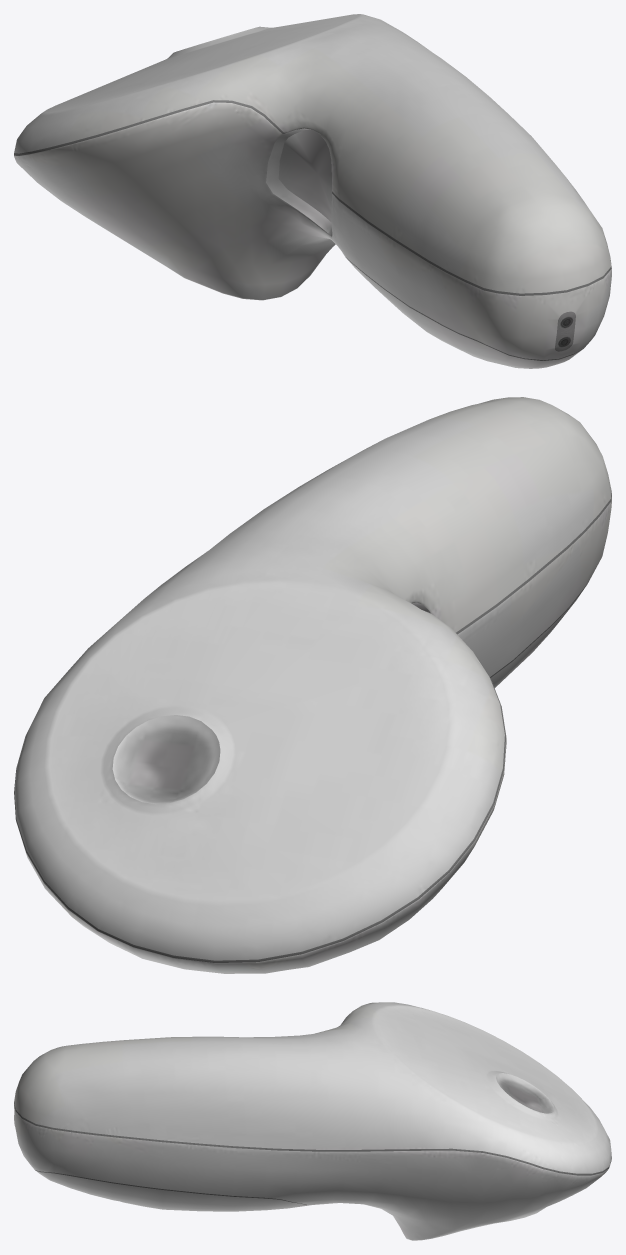
The picture shows the model from 3 angles, top to bottom: view 1: azimuth 30°, elevation 25°; view 2: azimuth 150°, elevation 25°; view 3: azimuth 270°, elevation 25°; orthographic projection. The views are drawn at different scales.
Size of the model in its own units: 0.0701 by 0.0527 by 0.1367.
Materials: 1 (1 with a texture image).
